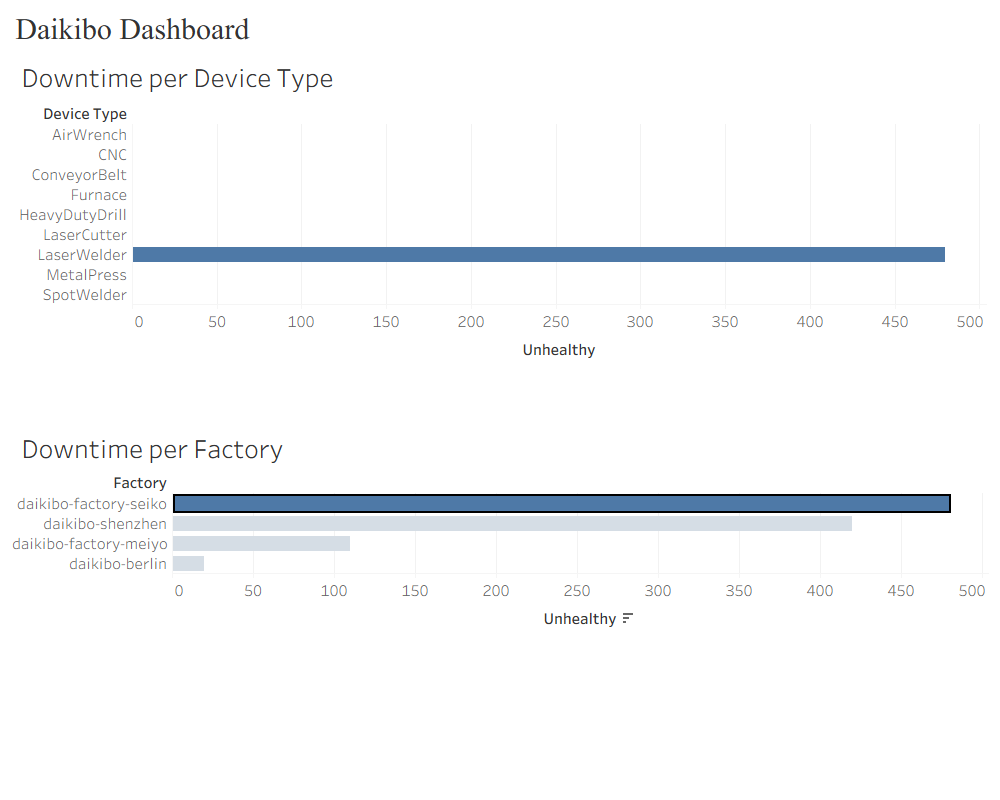

The page's visual inventory and layout, read from the dashboard file:
{"tool":"tableau","page":{"name":"daikibo dashboard","canvas":[1000,800],"ordinal":0},"visuals":[{"type":"title","box":[8,8,984,42]},{"type":"worksheet","title":" Downtime per Device Type","mark":"Automatic","rows":["deviceType"],"cols":["Calculation_0574232441675777"],"box":[8,50,984,371]},{"type":"worksheet","title":" Downtime per Factory","mark":"Automatic","rows":["factory"],"cols":["Calculation_0574232441675777"],"box":[8,421,984,371]}]}

Visuals, with their boxes in screenshot pixels (x1, y1, x2, y2), scaled from the page's 1000x800 canvas onto the 1000x800 screenshot:
title: BBox(8, 8, 992, 50)
" Downtime per Device Type" worksheet: BBox(8, 50, 992, 421)
" Downtime per Factory" worksheet: BBox(8, 421, 992, 792)
